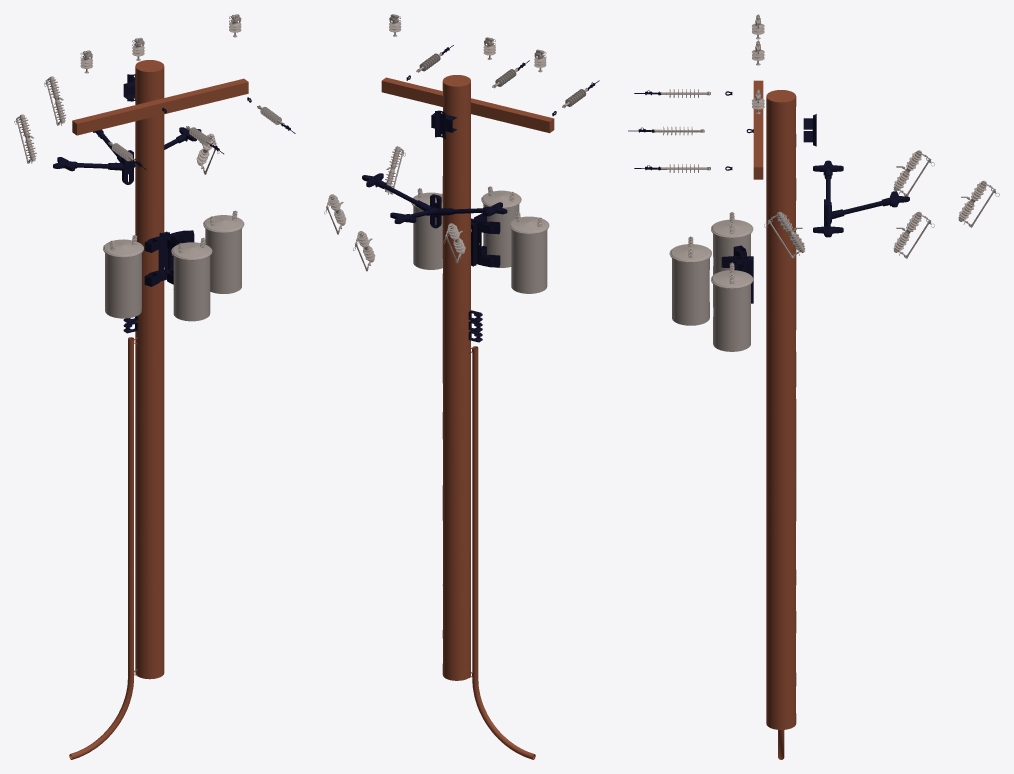
Rendered from Dis-Assem-Part-1.glb.
3 views of the same model, side by side, from view 1: azimuth 30°, elevation 25°; view 2: azimuth 150°, elevation 25°; view 3: azimuth 270°, elevation 25° (orthographic). The views are drawn at different scales.
Visible parts, largest first — view 1: Pole_assembly_Rev.1.0001 Pole_assembly_Rev.1.0001 [927188], Cross-Arm_8ft[color] Cross-Arm_8ft[color] [928788], Transformer[color] Transformer[color] [1387325], Transformer[color] Transformer[color] [929241], Transformer[color] Transformer[color] [929240], Transformer-Bracket[BLUE].0008 Transformer-Bracket[BLUE].000, Distribution_3part_Standoff[color] Distribution_3part_Stando, Arrester w_out Bracket Arrester w_out Bracket [980301], Arrester w_out Bracket Arrester w_out Bracket [980344]; view 2: Pole_assembly_Rev.1.0001 Pole_assembly_Rev.1.0001 [927188], Transformer[color] Transformer[color] [929241], Cross-Arm_8ft[color] Cross-Arm_8ft[color] [928788], Transformer[color] Transformer[color] [929240], Transformer[color] Transformer[color] [1387325], Distribution_3part_Standoff[color] Distribution_3part_Stando, Transformer-Bracket[BLUE].0008 Transformer-Bracket[BLUE].000, CrossArm-Bracket[BLUE] CrossArm-Bracket[BLUE] [928790]; view 3: Pole_assembly_Rev.1.0001 Pole_assembly_Rev.1.0001 [927188], Transformer[color] Transformer[color] [929240], Transformer[color] Transformer[color] [1387325], Transformer[color] Transformer[color] [929241], Distribution_3part_Standoff[color] Distribution_3part_Stando, Cross-Arm_8ft[color] Cross-Arm_8ft[color] [928788], Transformer-Bracket[BLUE].0008 Transformer-Bracket[BLUE].000.
Boxes of the visible parts, x1,y1,x2,y2 form: Pole_assembly_Rev.1.0001 Pole_assembly_Rev.1.0001 [927188]: [69, 60, 164, 759]; Cross-Arm_8ft[color] Cross-Arm_8ft[color] [928788]: [72, 78, 248, 135]; Transformer[color] Transformer[color] [1387325]: [171, 237, 212, 321]; Transformer[color] Transformer[color] [929241]: [103, 235, 143, 318]; Transformer[color] Transformer[color] [929240]: [203, 210, 244, 293]; Transformer-Bracket[BLUE].0008 Transformer-Bracket[BLUE].000: [144, 230, 194, 286]; Distribution_3part_Standoff[color] Distribution_3part_Stando: [53, 127, 201, 184]; Arrester w_out Bracket Arrester w_out Bracket [980301]: [14, 114, 36, 163]; Arrester w_out Bracket Arrester w_out Bracket [980344]: [44, 76, 65, 125]; Pole_assembly_Rev.1.0001 Pole_assembly_Rev.1.0001 [927188]: [442, 75, 535, 759]; Transformer[color] Transformer[color] [929241]: [509, 212, 549, 293]; Cross-Arm_8ft[color] Cross-Arm_8ft[color] [928788]: [381, 77, 554, 133]; Transformer[color] Transformer[color] [929240]: [411, 188, 442, 269]; Transformer[color] Transformer[color] [1387325]: [481, 186, 521, 267]; Distribution_3part_Standoff[color] Distribution_3part_Stando: [362, 173, 507, 228]; Transformer-Bracket[BLUE].0008 Transformer-Bracket[BLUE].000: [471, 213, 500, 267]; CrossArm-Bracket[BLUE] CrossArm-Bracket[BLUE] [928790]: [431, 110, 456, 139]; Pole_assembly_Rev.1.0001 Pole_assembly_Rev.1.0001 [927188]: [766, 90, 796, 759]; Transformer[color] Transformer[color] [929240]: [711, 262, 753, 351]; Transformer[color] Transformer[color] [1387325]: [669, 236, 711, 325]; Transformer[color] Transformer[color] [929241]: [711, 212, 753, 274]; Distribution_3part_Standoff[color] Distribution_3part_Stando: [813, 160, 909, 237]; Cross-Arm_8ft[color] Cross-Arm_8ft[color] [928788]: [753, 80, 763, 179]; Transformer-Bracket[BLUE].0008 Transformer-Bracket[BLUE].000: [721, 245, 753, 303].
Bounding box in the file's own units: 2.44 × 9.71 × 4.42.
